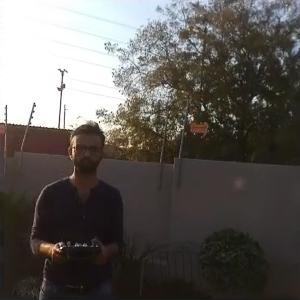follow: (25, 112, 127, 298)
